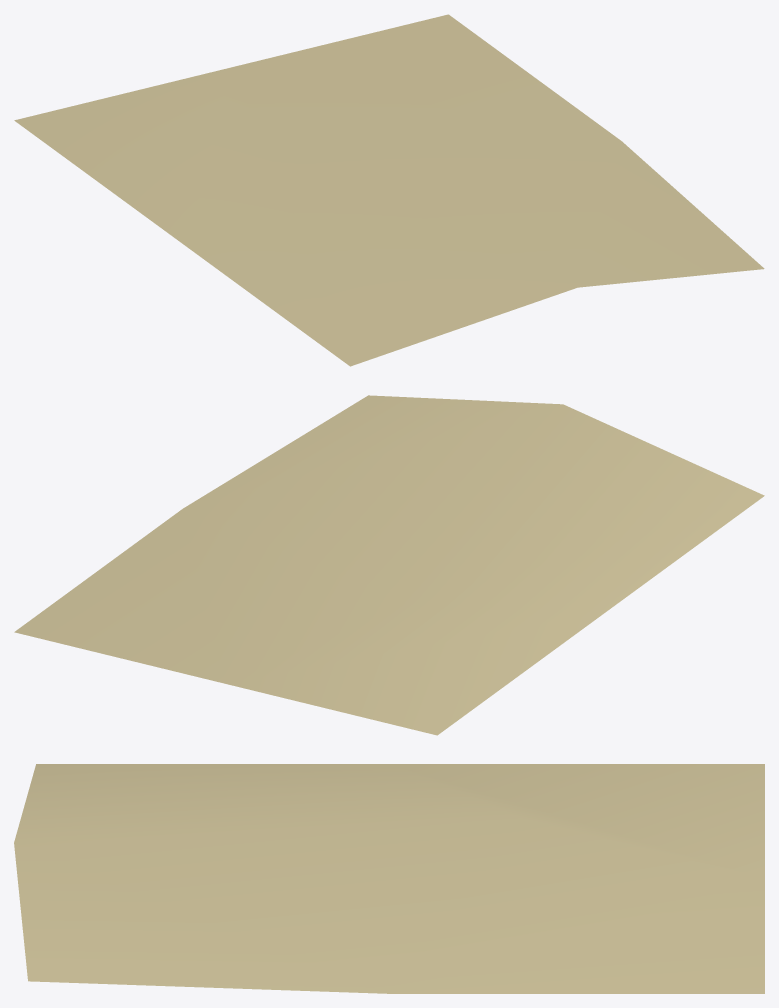
The model's file is SM_Paper_05.fbx.
3 views of the same model, one above another, from view 1: azimuth 30°, elevation 25°; view 2: azimuth 150°, elevation 25°; view 3: azimuth 270°, elevation 25° (orthographic). The views are drawn at different scales.
Parts seen in each view (by area): view 1: SM_Paper_05; view 2: SM_Paper_05; view 3: SM_Paper_05.
Part boxes in pixels (box(x1,y1,x2,y2)): SM_Paper_05: box(14, 14, 764, 366); SM_Paper_05: box(14, 395, 764, 735); SM_Paper_05: box(14, 764, 764, 993).
Bounding box in the file's own units: 21 × 1.54 × 29.
